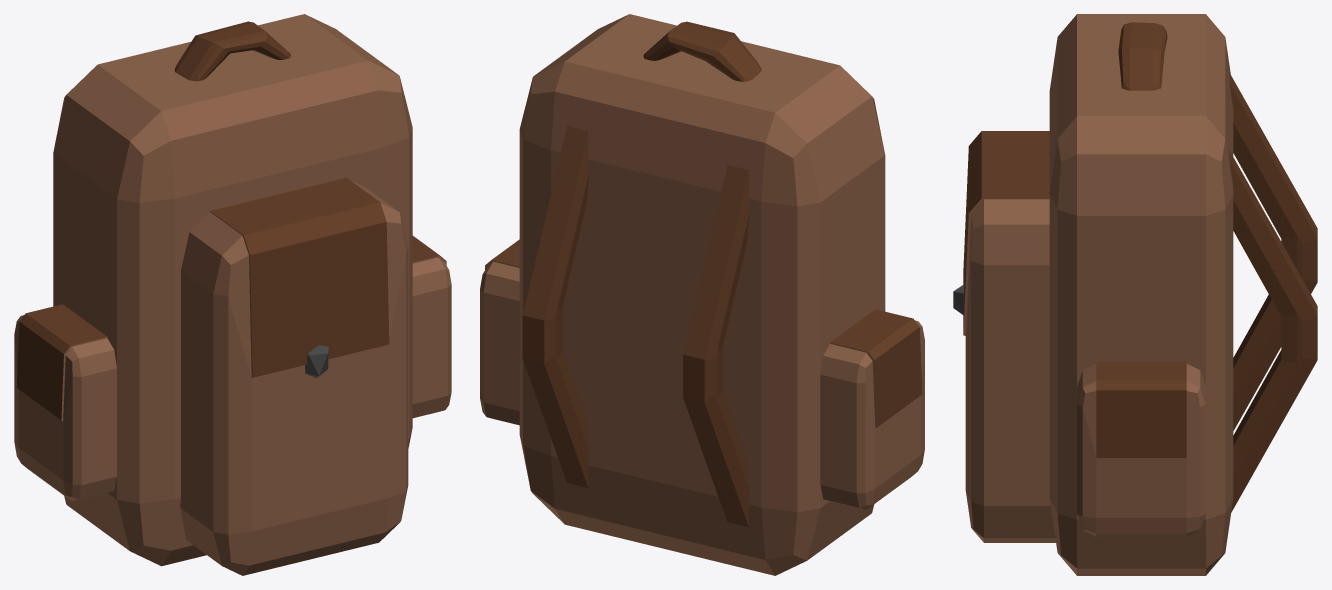
File: Backpack.fbx
The picture shows the model from 3 angles, left to right: view 1: azimuth 30°, elevation 25°; view 2: azimuth 150°, elevation 25°; view 3: azimuth 270°, elevation 25°; orthographic projection.
Parts seen in each view (by area): view 1: Cube, Cube.003, Cube.002, Cube.001, Cube.006, Icosphere; view 2: Cube, Cube.002, Cube.005, Cube.004, Cube.001, Cube.006; view 3: Cube, Cube.003, Cube.001, Cube.005, Cube.004, Cube.006.
Boxes of the visible parts, x1,y1,x2,y2 form: Cube: (53,14,412,566); Cube.003: (180,177,408,575); Cube.002: (14,304,116,501); Cube.001: (412,236,451,418); Cube.006: (175,21,290,81); Icosphere: (305,345,328,377); Cube: (519,14,885,575); Cube.002: (820,309,924,509); Cube.005: (522,125,589,487); Cube.004: (683,165,749,527); Cube.001: (480,239,519,425); Cube.006: (643,21,761,81); Cube: (1049,14,1233,575); Cube.003: (963,131,1055,542); Cube.001: (1077,362,1205,537); Cube.005: (1229,151,1317,512); Cube.004: (1229,73,1317,430); Cube.006: (1118,22,1167,90).
Bounding box in the file's own units: 394 × 470 × 317.
